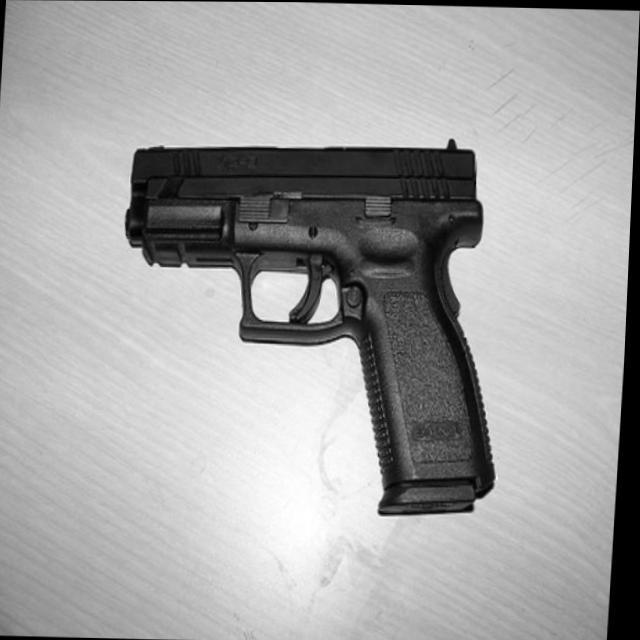weapon: (110, 127, 518, 516)
